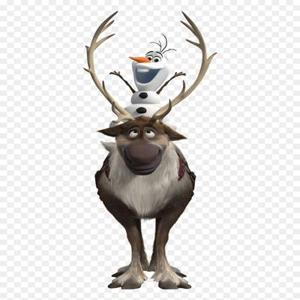sven: (105, 114, 209, 292)
